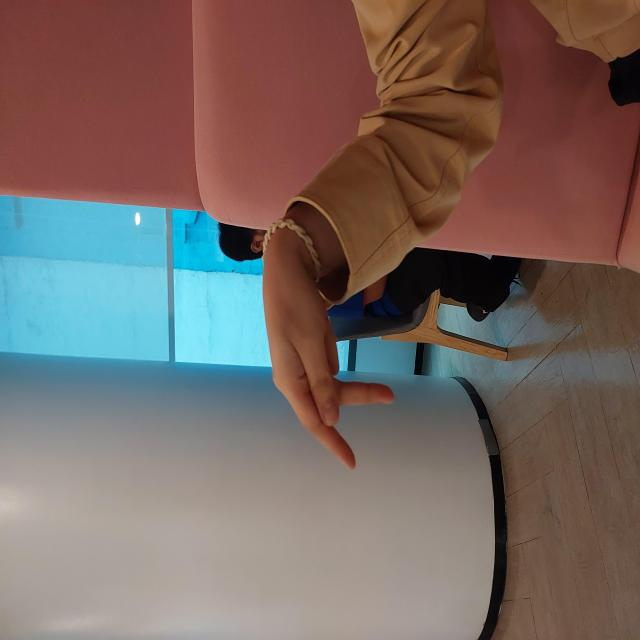P: (165, 258, 431, 401)
